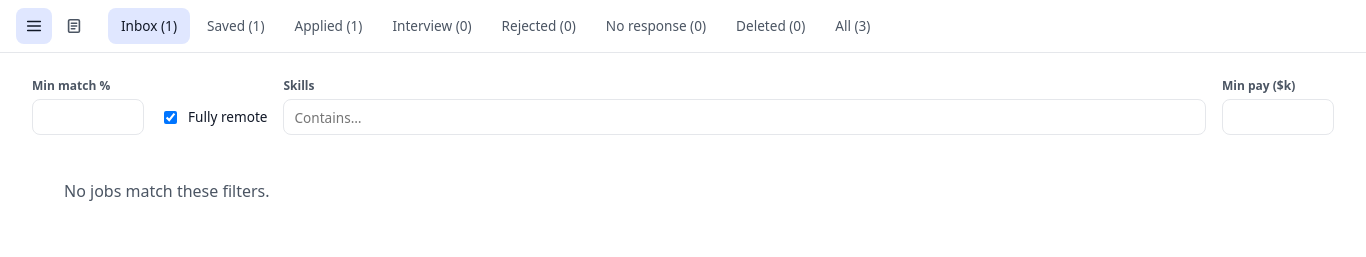
Scenario: applies a saved job
Expected: the tab "Inbox (1)" is shown, [108,8,190,44]
Click the tab "Saved (1)" at {"x": 236, "y": 26}, box [194,8,278,44]
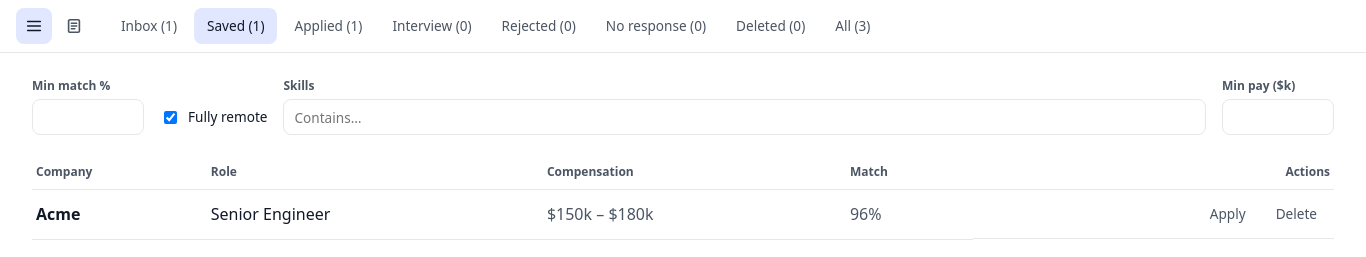
Expected: the button "Acme" is shown, [36,198,199,230]
Click the button "Apply" at {"x": 1228, "y": 214}, box [1197,196,1259,232]
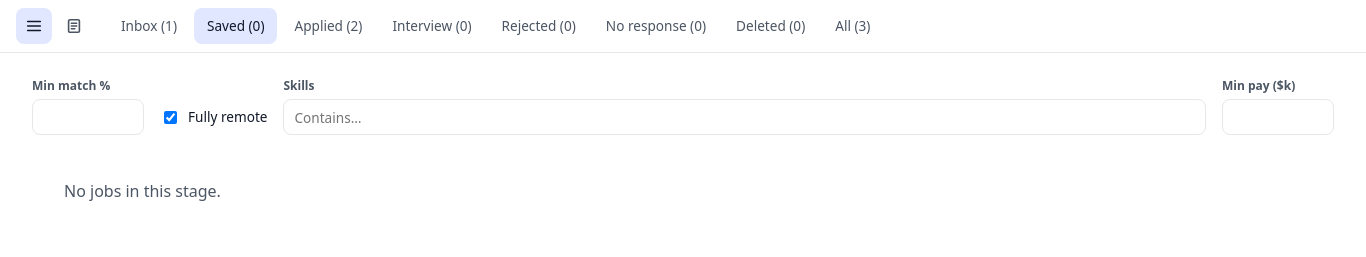
Expected: the button "Acme" is gone
